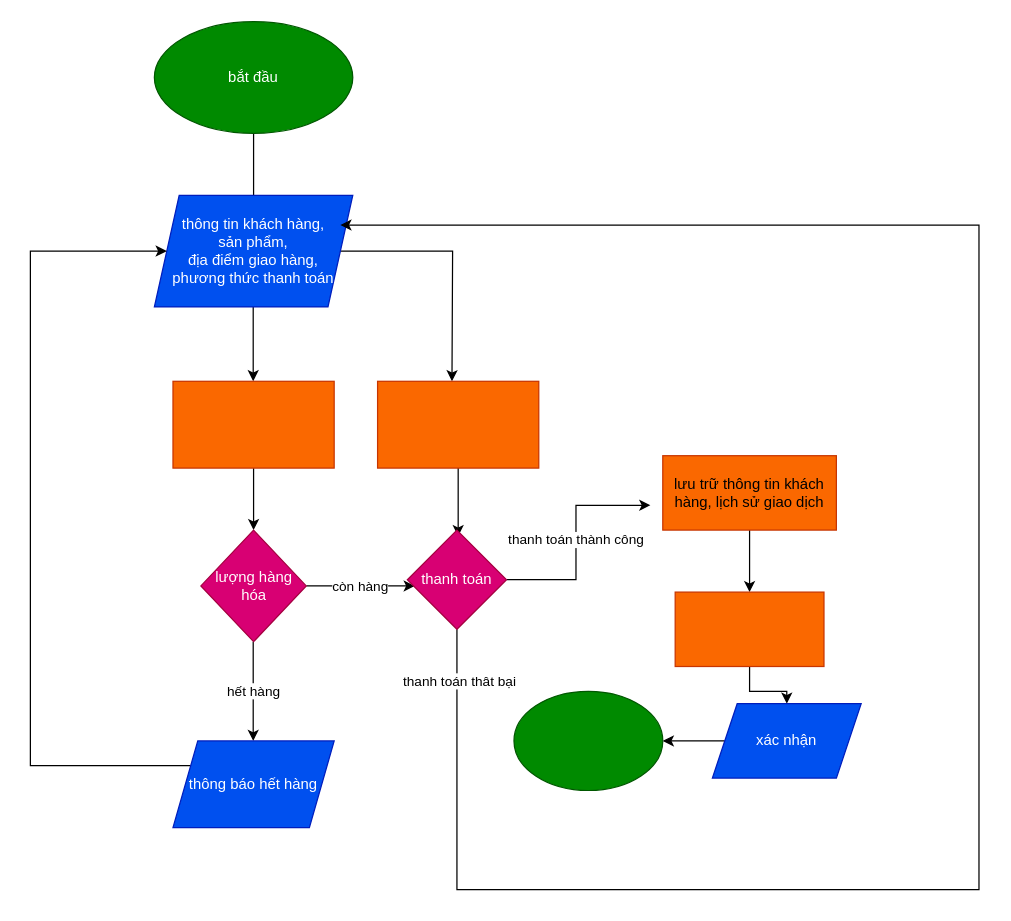
The diagram is 1011 pixels wide and 921 high, and some of its shapes have lost their labels. The box of each missing label's shape, as (x1, y1, x2, y2) in pixels:
giao hàng: (674, 591, 824, 666)
kết thúc: (513, 690, 663, 790)
tạo đơn hàng và mã hóa đơn kiểm tra và xử lí thanh toán: (376, 380, 539, 468)
xác nhận thông tin đơn hàng, địa điểm giao hàng: (172, 380, 334, 468)
